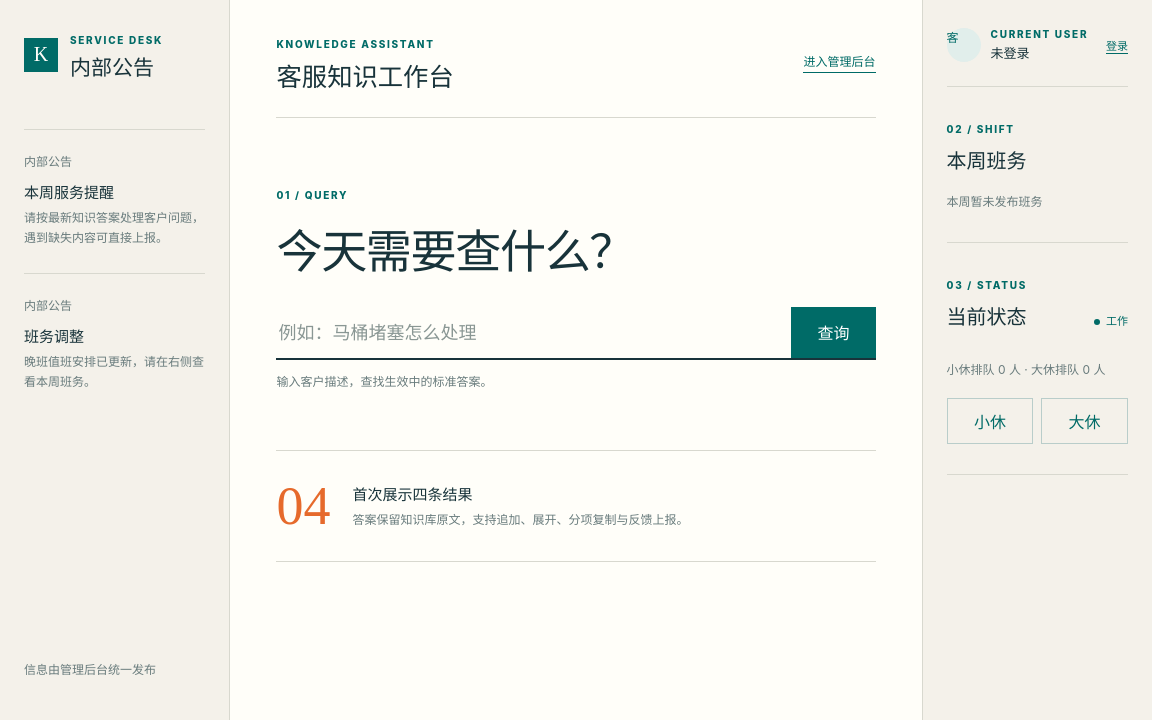
Test: 统一前端入口 › 查询后展示原始答案且不暴露检索技术字段
The image size is (1152, 720).
In the search field: x=534, y=332 [276,307,792,358], type "制冰机"
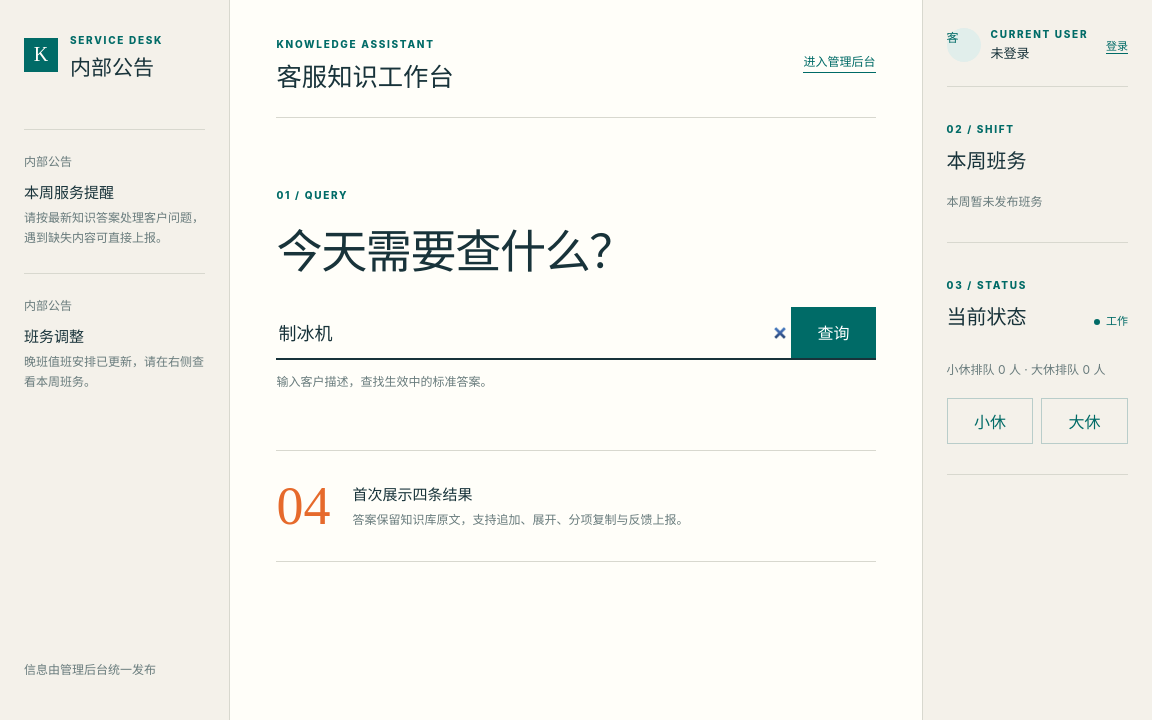
Click the button "查询": x=834, y=332 [792,307,876,358]
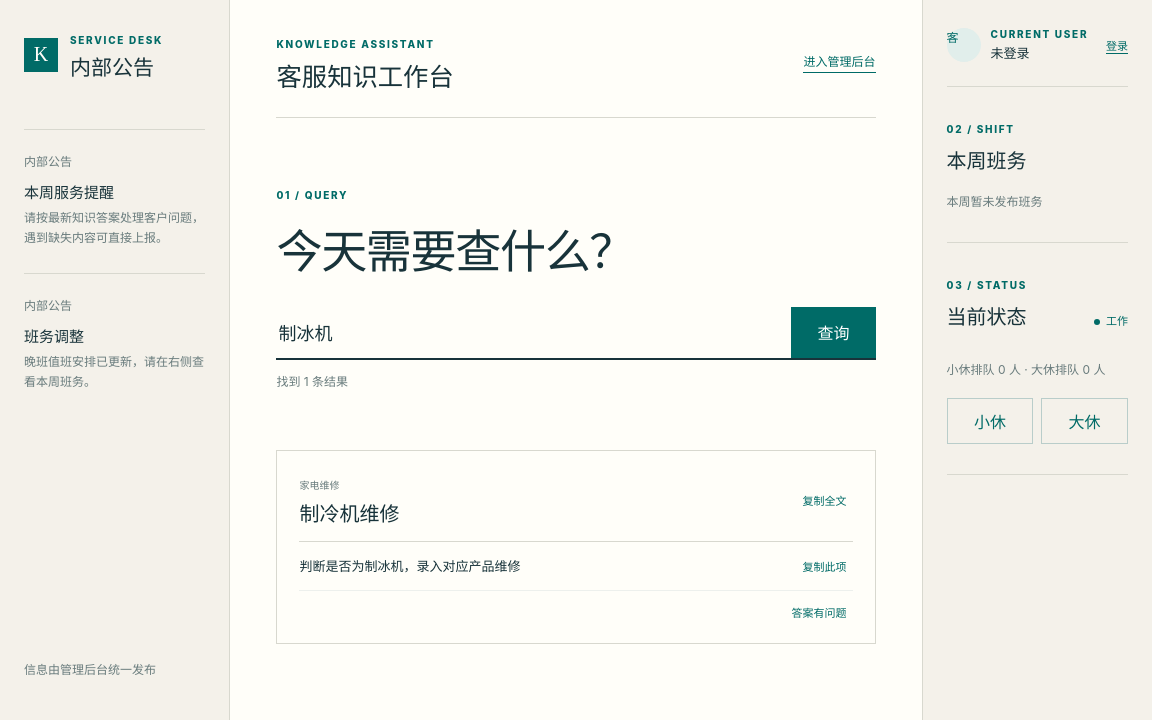
Expected: the heading "制冷机维修" is shown, [300,498,400,527]
Expected: the text "判断是否为制冰机，录入对应产品维修" is shown, [300,558,520,574]
